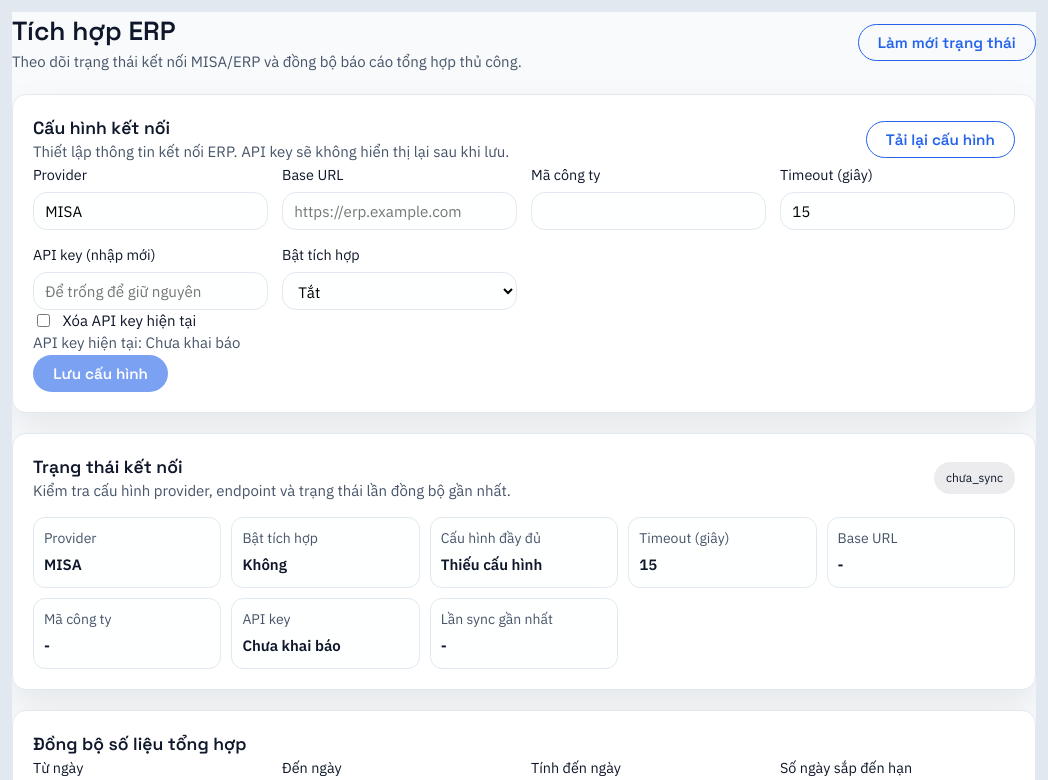
Test case: AdminErpIntegrationPage › validates required config fields on client when enabling integration
expect the button "Lưu cấu hình" is shown: met, box [33, 355, 168, 392]
Select "Bật" in the dropdown labelled "Bật tích hợp" at (400, 291), box [282, 272, 517, 310]
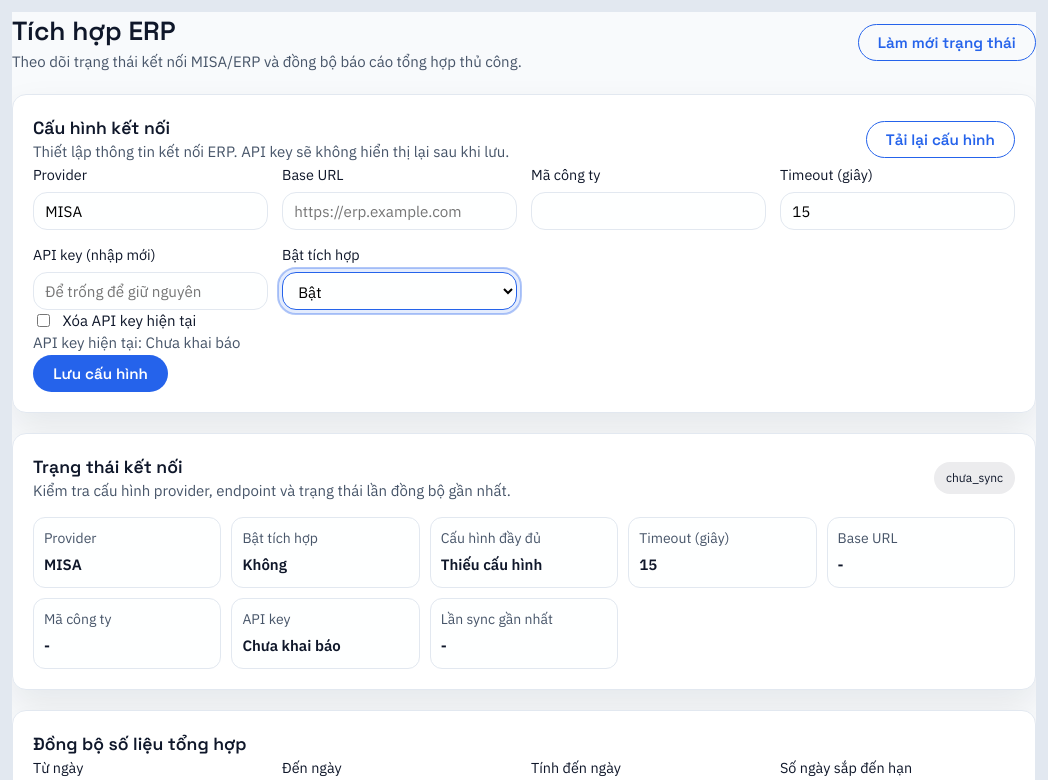
Click the button "Lưu cấu hình" at (101, 373), box [33, 355, 168, 392]
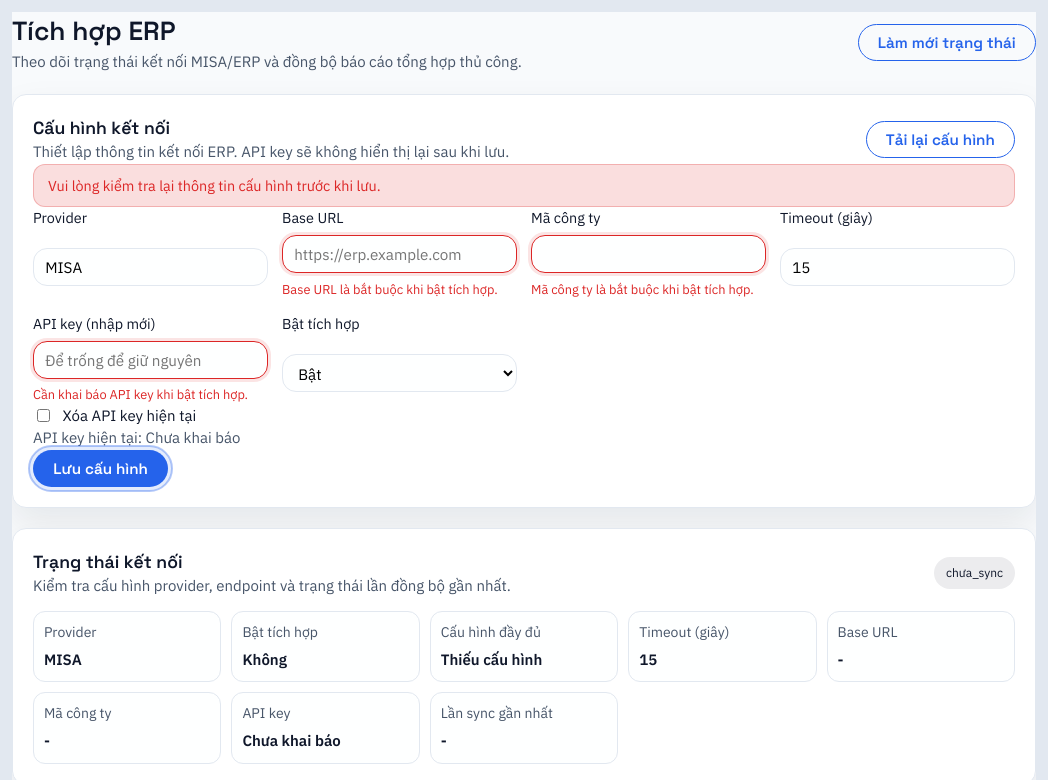
expect the text "Vui lòng kiểm tra lại thông tin cấu hình trước khi lưu." is shown: met, box [33, 164, 1015, 207]
